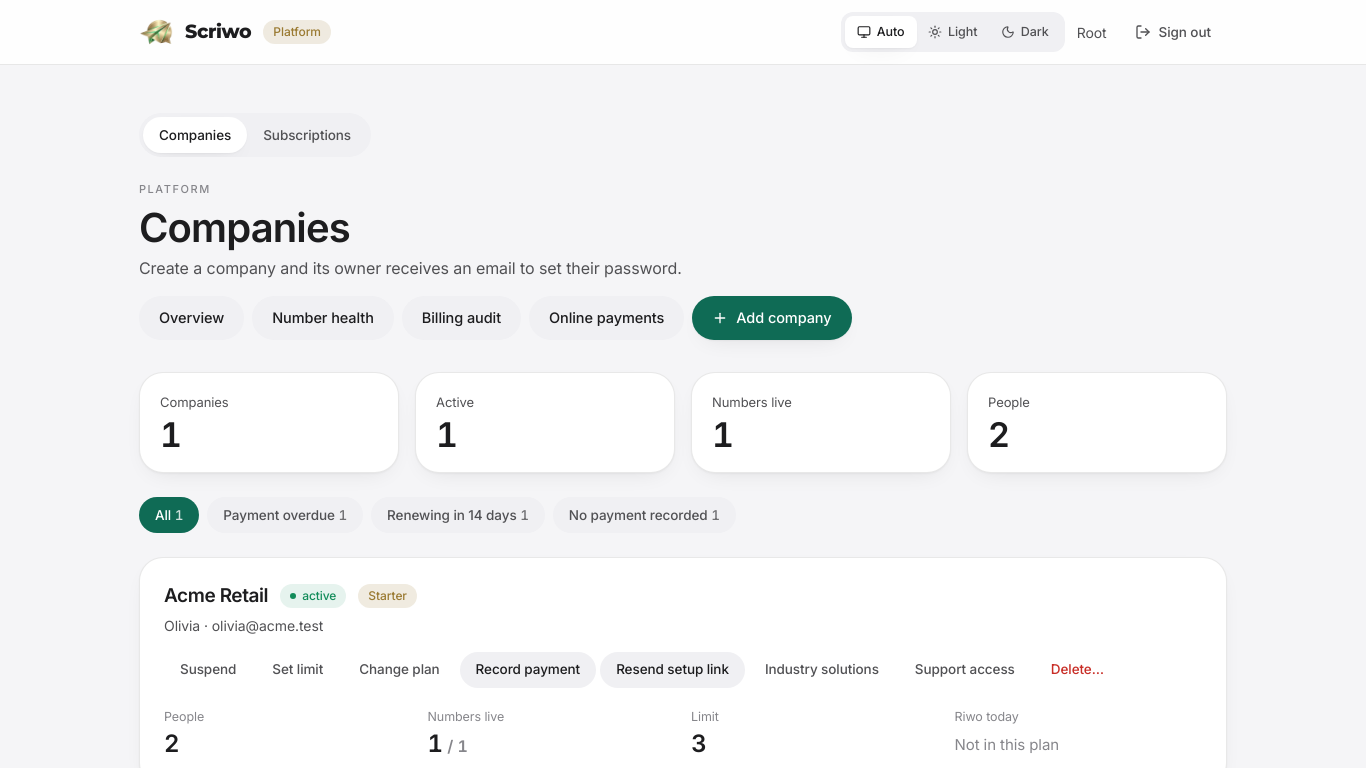
choosing a plan when a company is added › sends the chosen plan with the company, and the limit it was given
Check: the heading "Acme Retail" is shown, box [164,582,268,610]
Click the button "Add company" at (772, 318), box [692,296,852,340]
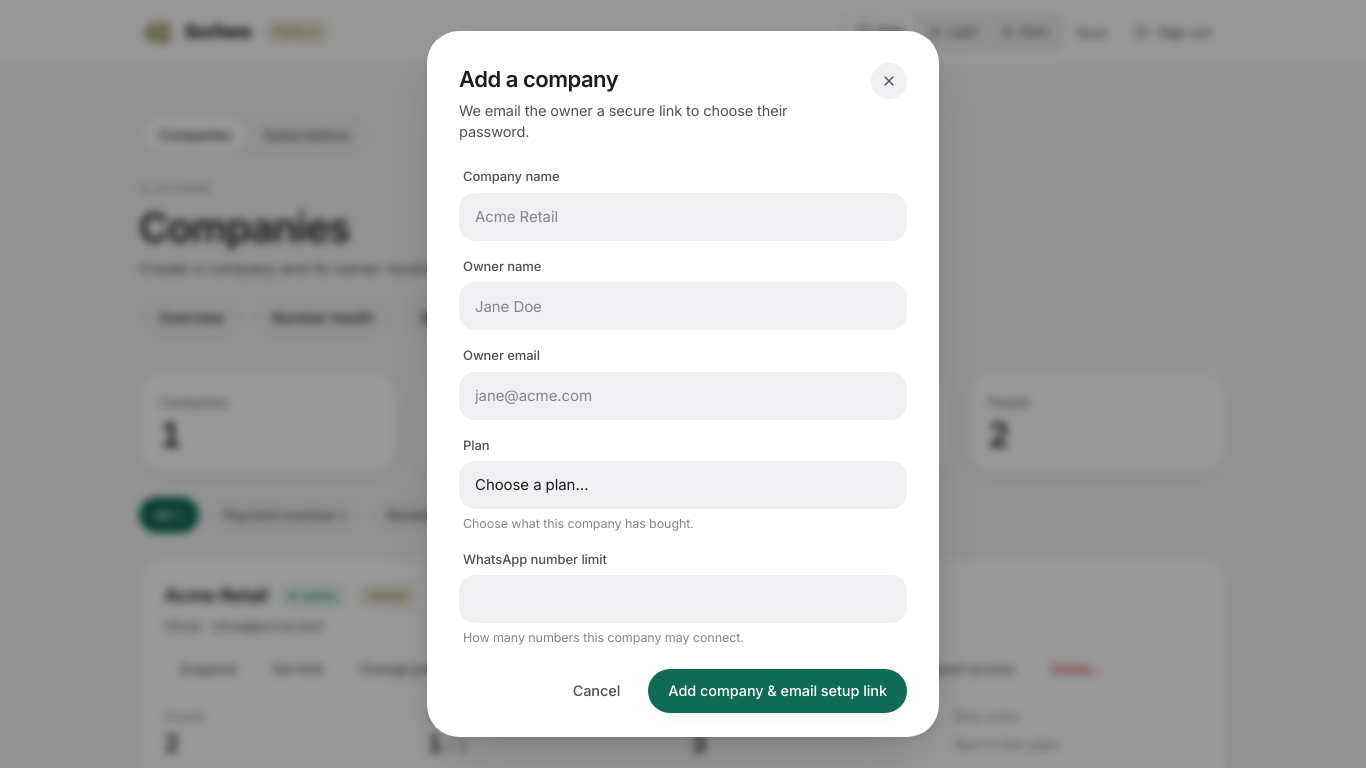
Type "Globex" into the field labelled "Company name" at (683, 217), box [459,193,907,241]
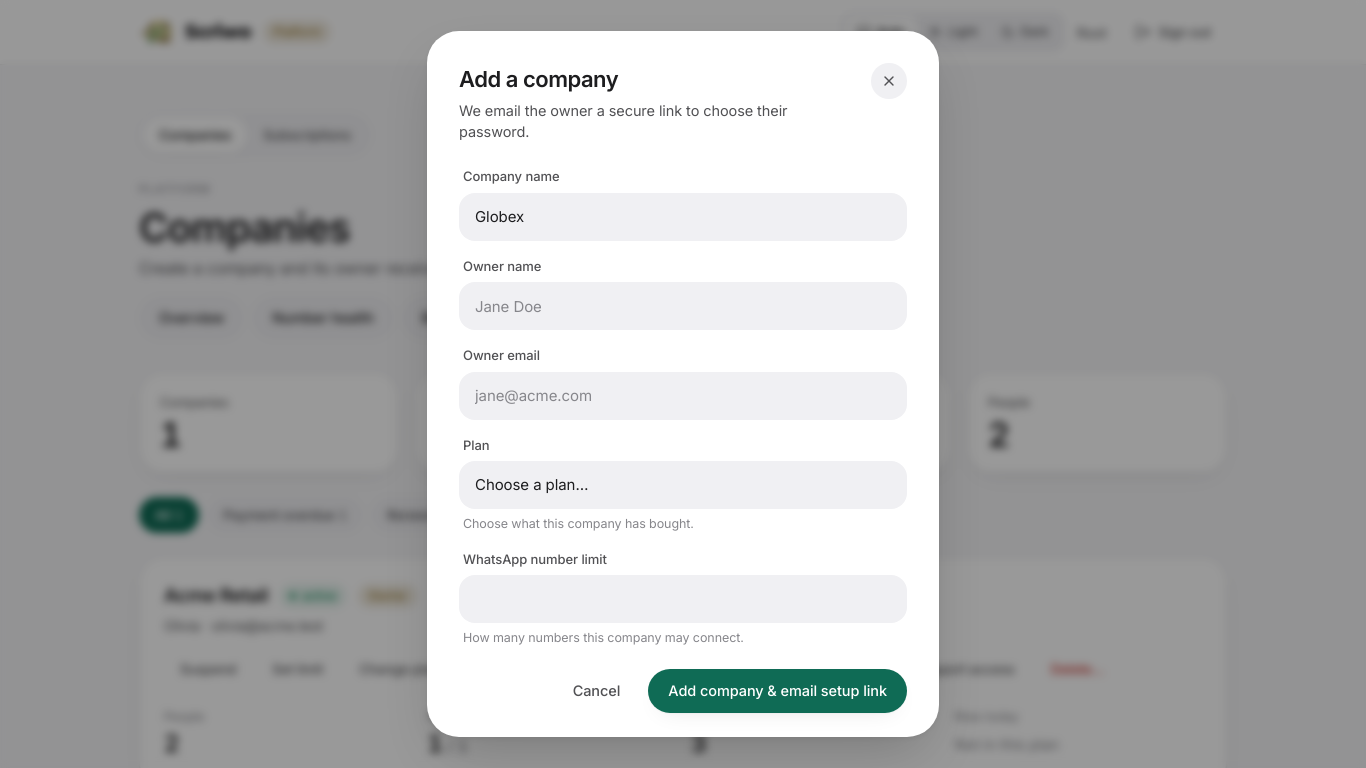
Type "Hank" into the field labelled "Owner name" at (683, 306), box [459,282,907,330]
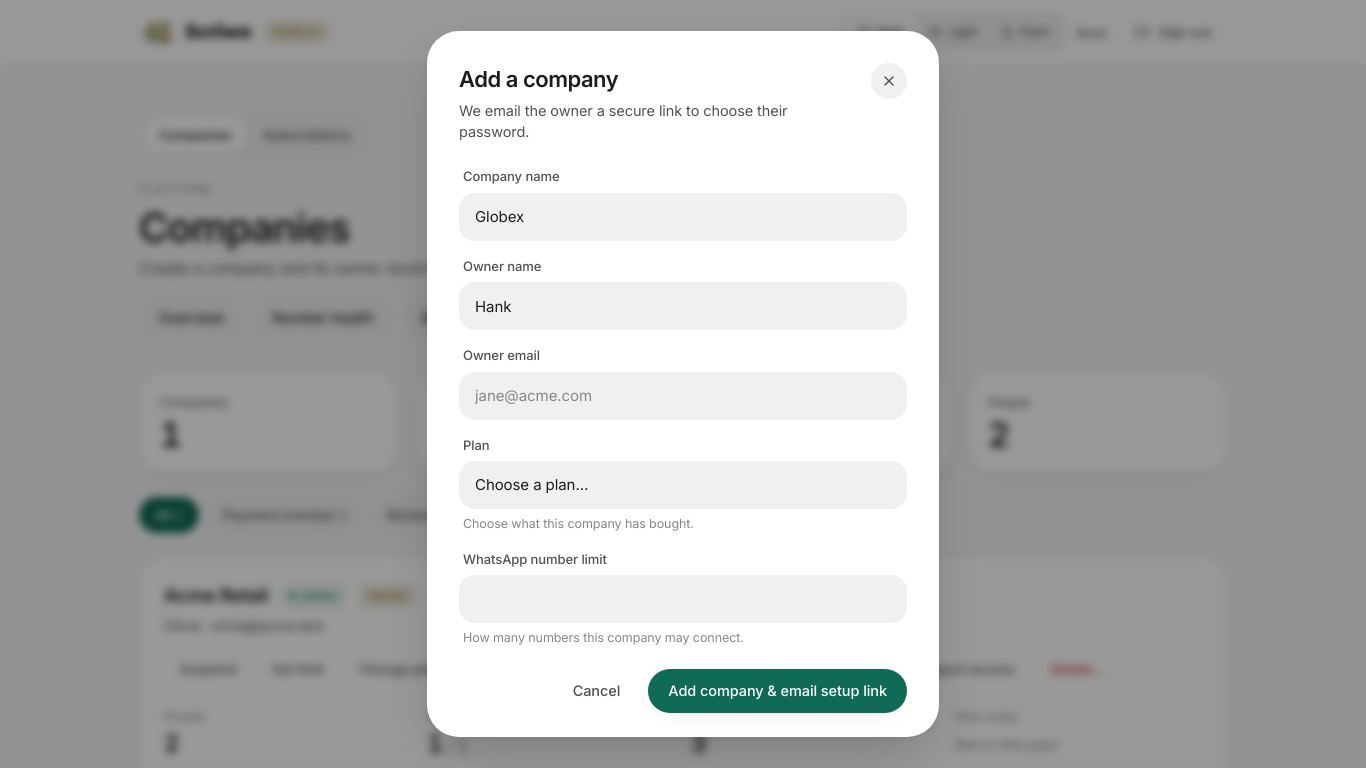
Type "hank@globex.test" into the field labelled "Owner email" at (683, 396), box [459,372,907,420]
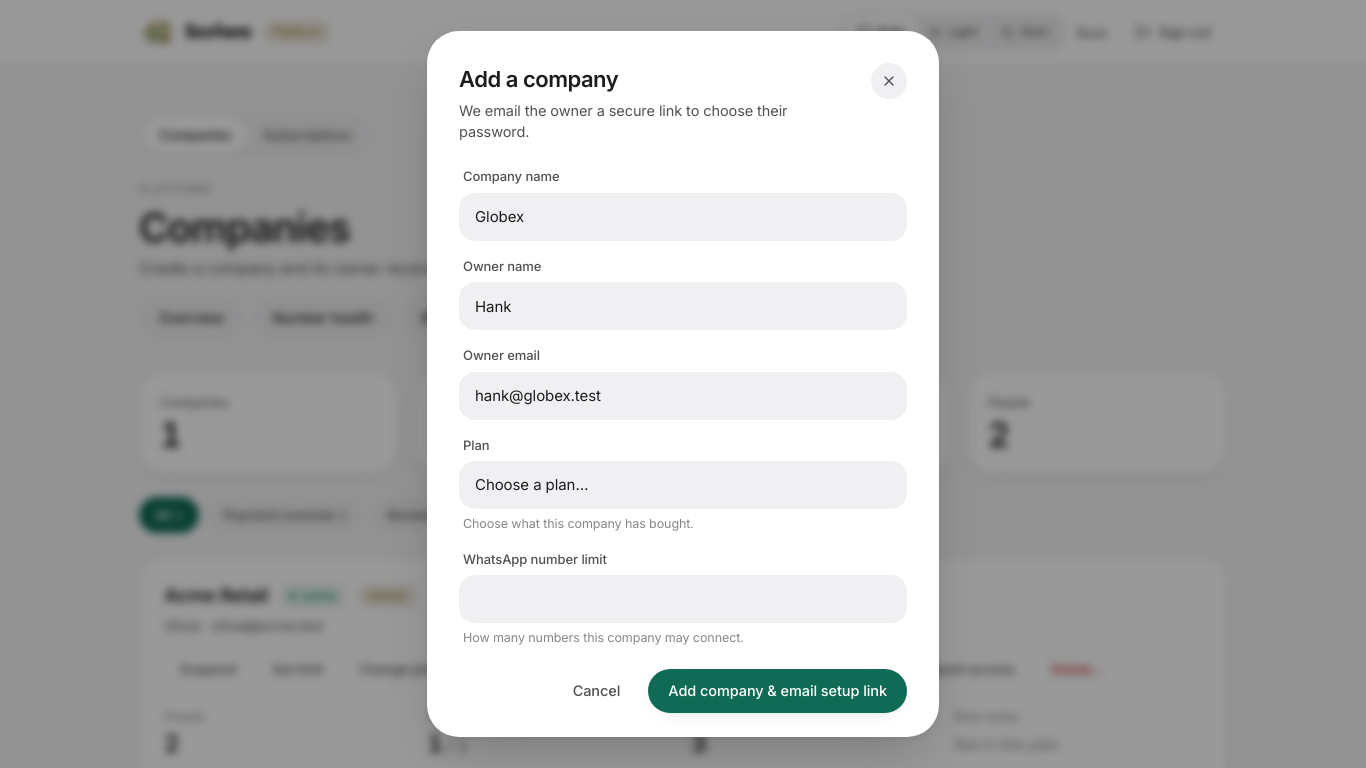
Select "Growth" in the dropdown labelled "Plan" at (683, 485), box [459,461,907,509]
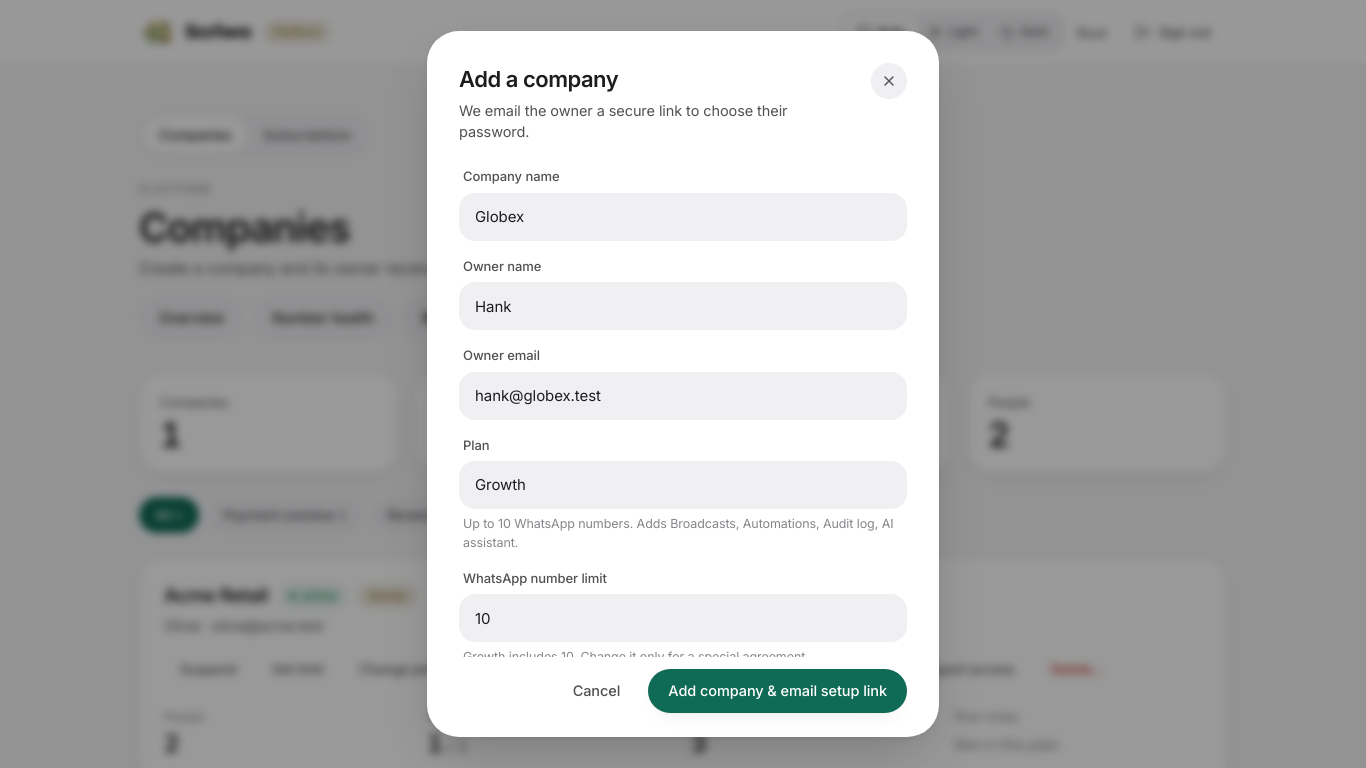
Click the button "Add company & email setup link" at (778, 691), box [648,669,907,713]
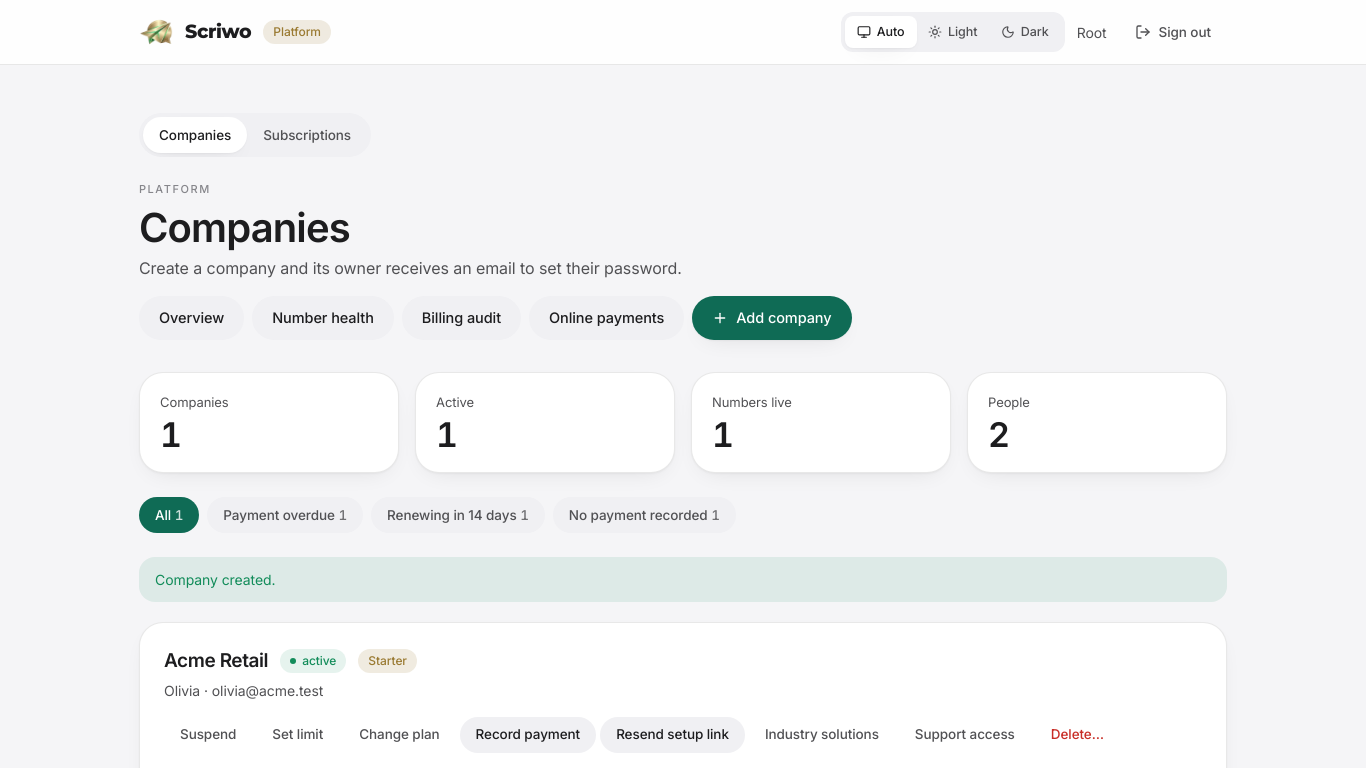
Check: the text "Company created." is shown, box [139,557,1227,602]
